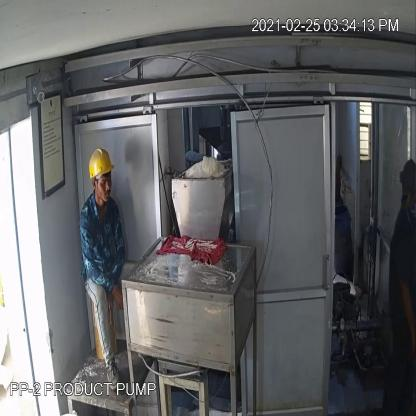helmet: (86, 144, 119, 181)
